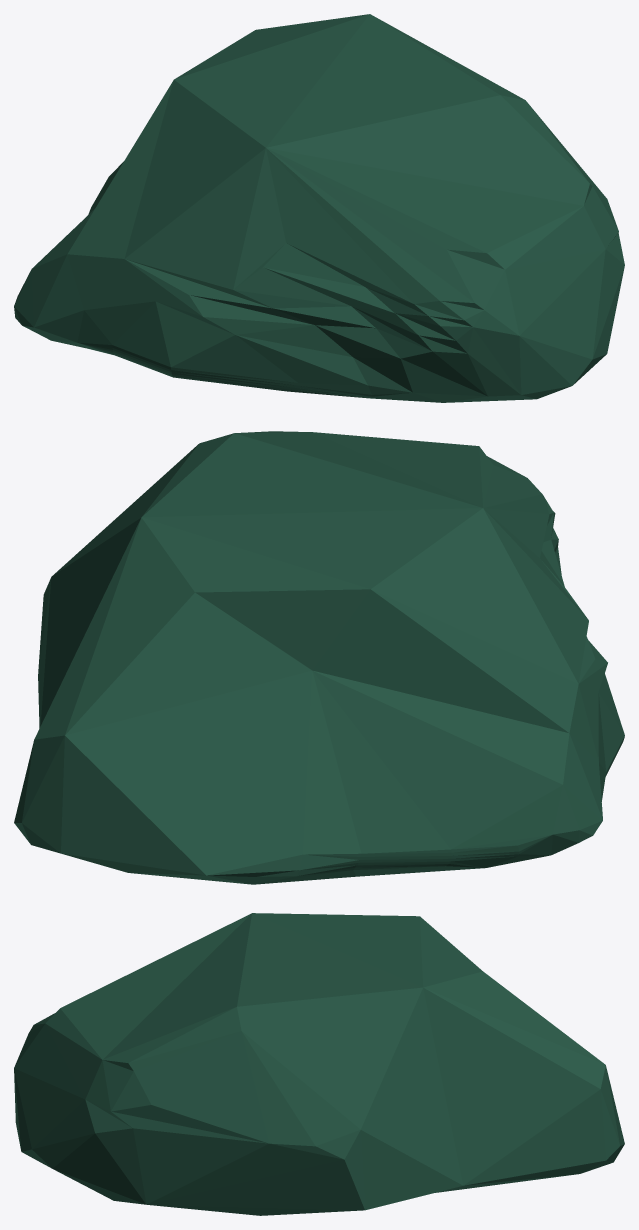
The model's file is Rock05.FBX.
3 renders of one model, top to bottom at view 1: azimuth 30°, elevation 25°; view 2: azimuth 150°, elevation 25°; view 3: azimuth 270°, elevation 25°, orthographic. The views are drawn at different scales.
Parts seen in each view (by area): view 1: Capsule002; view 2: Capsule002; view 3: Capsule002.
Boxes of the visible parts, x1,y1,x2,y2 form: Capsule002: (14, 14, 624, 402); Capsule002: (14, 431, 624, 884); Capsule002: (14, 913, 624, 1215).
Bounding box in the file's own units: 235 × 103 × 282.
